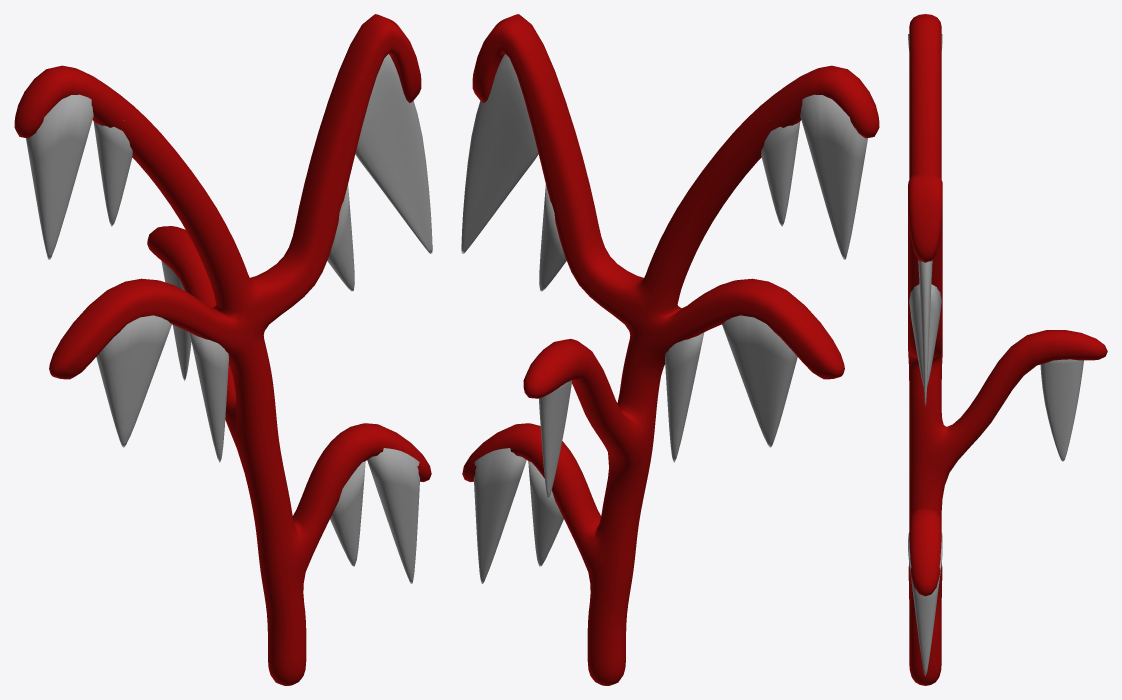
File: mars-tree-05.obj
3 views of the same model, side by side, from view 1: azimuth 30°, elevation 25°; view 2: azimuth 150°, elevation 25°; view 3: azimuth 270°, elevation 25° (orthographic). The views are drawn at different scales.
Parts seen in each view (by area): view 1: Tree.005_Cube.012; view 2: Tree.005_Cube.012; view 3: Tree.005_Cube.012.
Boxes of the visible parts, left/top/right/bottom form: Tree.005_Cube.012: left=14, top=14, right=432, bottom=685; Tree.005_Cube.012: left=461, top=14, right=879, bottom=685; Tree.005_Cube.012: left=908, top=14, right=1107, bottom=685.
Bounding box in the file's own units: 1.18 × 1.82 × 0.576.
